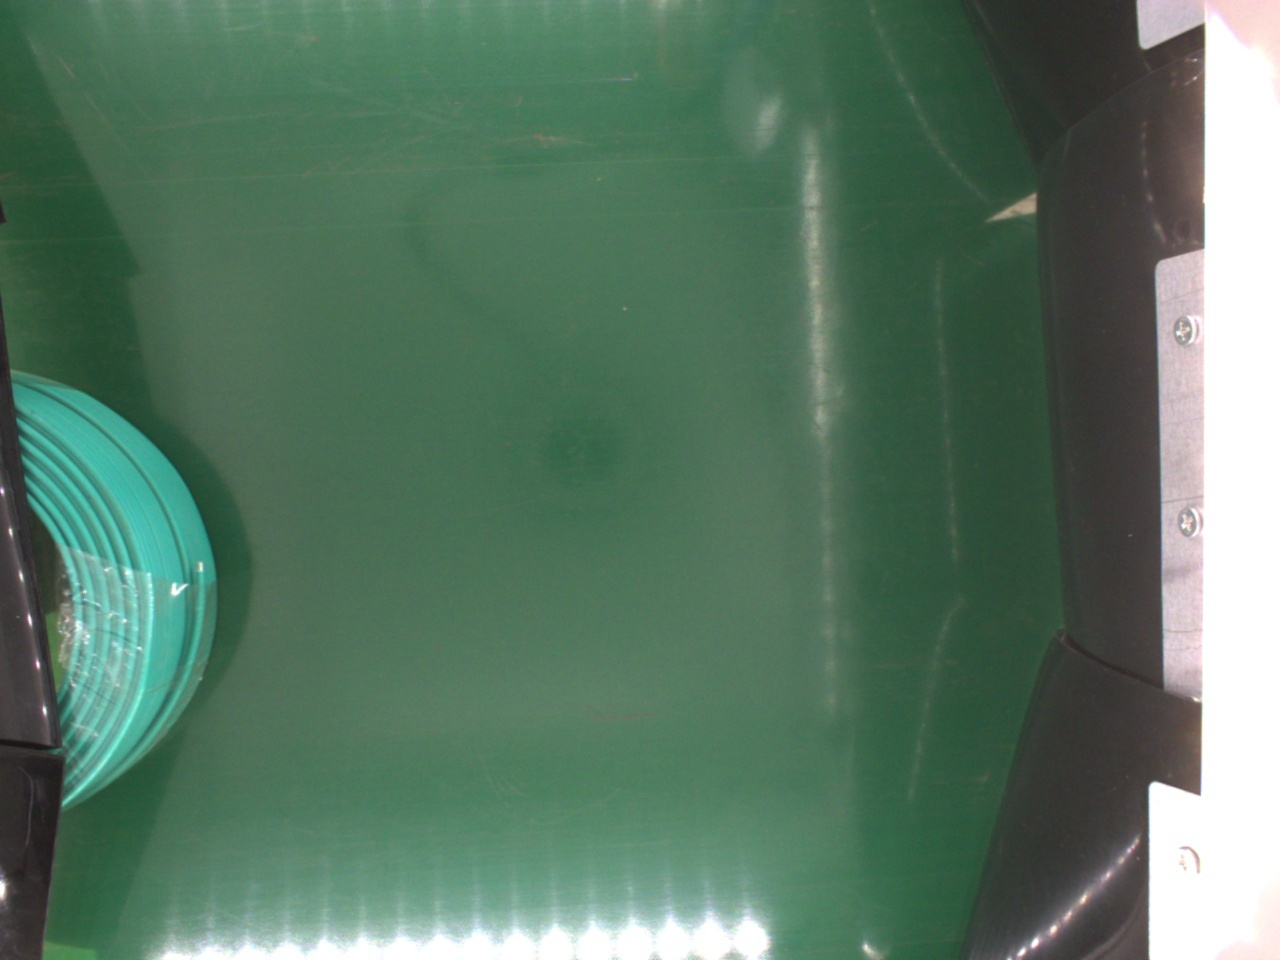green: (5, 368, 219, 809)
